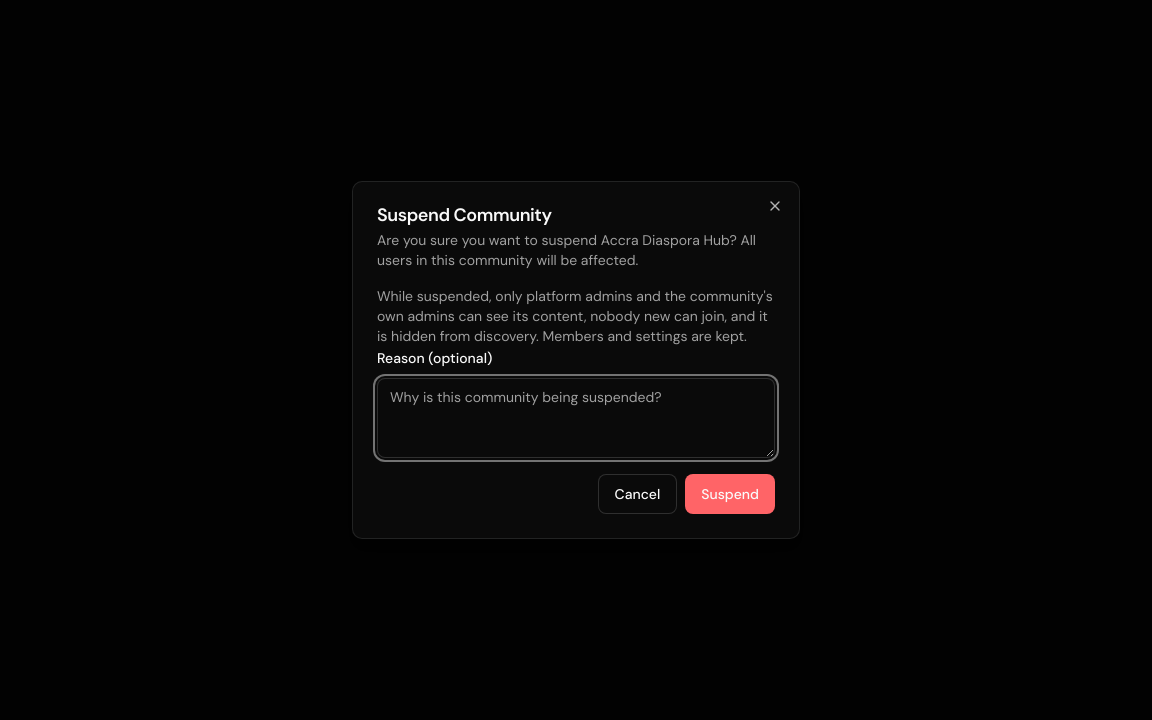
Scenario: SuspendCommunityDialog › shows the refusal and never a success toast when the server refuses (errorPolicy 'all')
This screenshot has width=1152, height=720.
Click the button "Suspend".
click(730, 494)  # box x1=685 y1=474 x2=775 y2=514
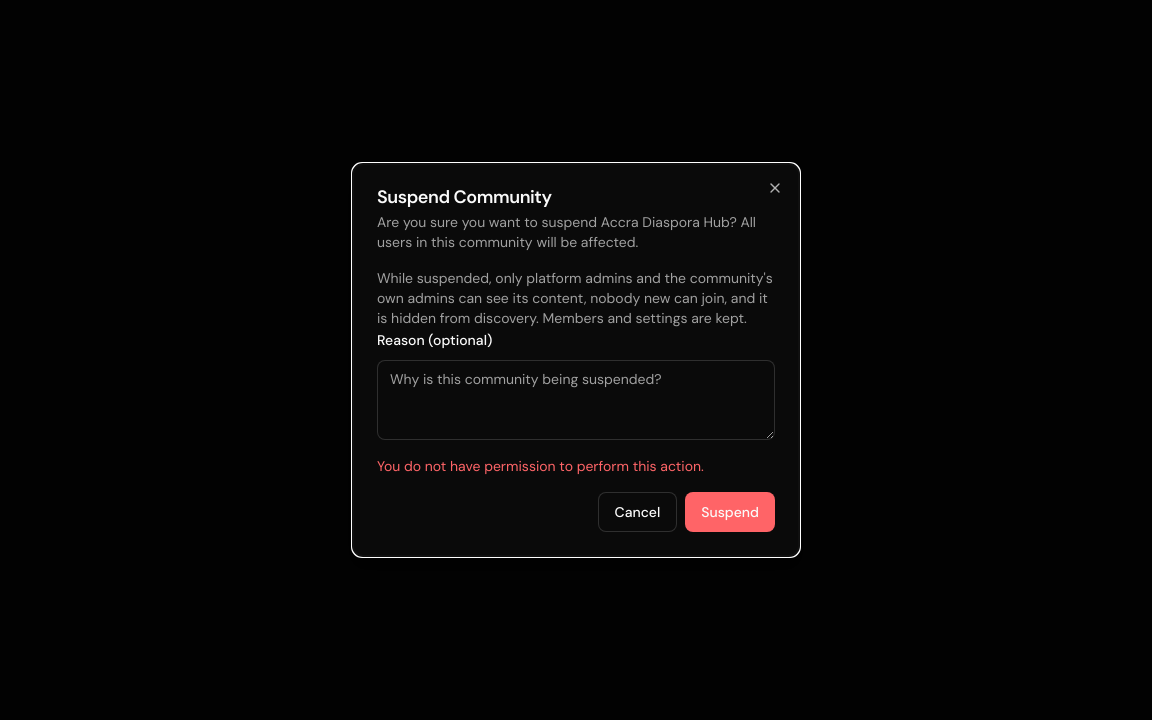
expect the message shows "do not have permission": met, box x1=377 y1=457 x2=704 y2=475
